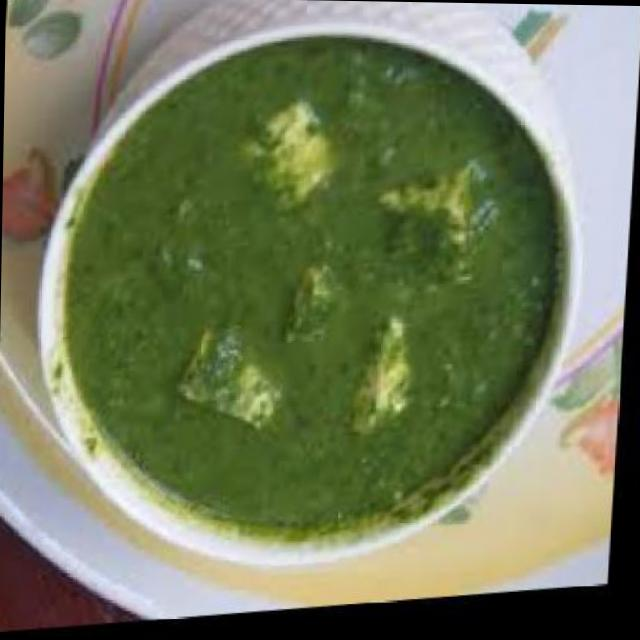palak_paneer: (52, 17, 570, 555)
